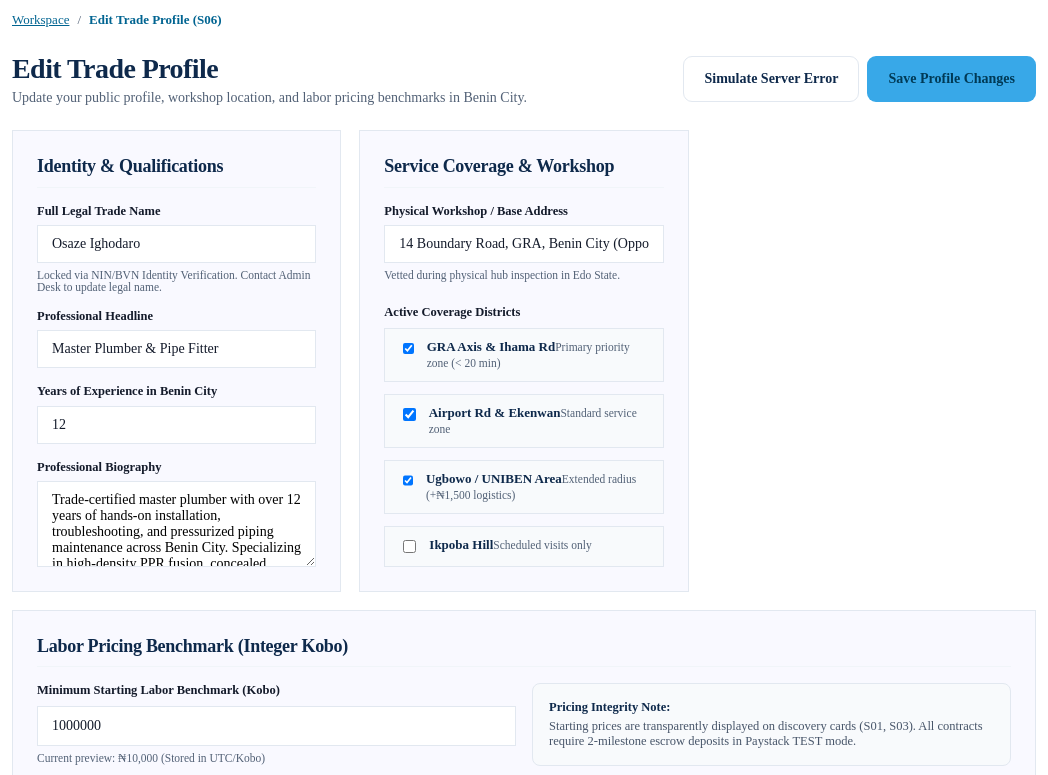
Test: Artisan Profiles & Verification (S04, S05, S06, S40, S41) › renders S06 Profile Editor and simulates profile update
Expected: the heading "Edit Trade Profile" is shown, x1=12 y1=53 x2=218 y2=84
Click the button "Save Profile Changes".
click(952, 79)  # box x1=868 y1=56 x2=1036 y2=102
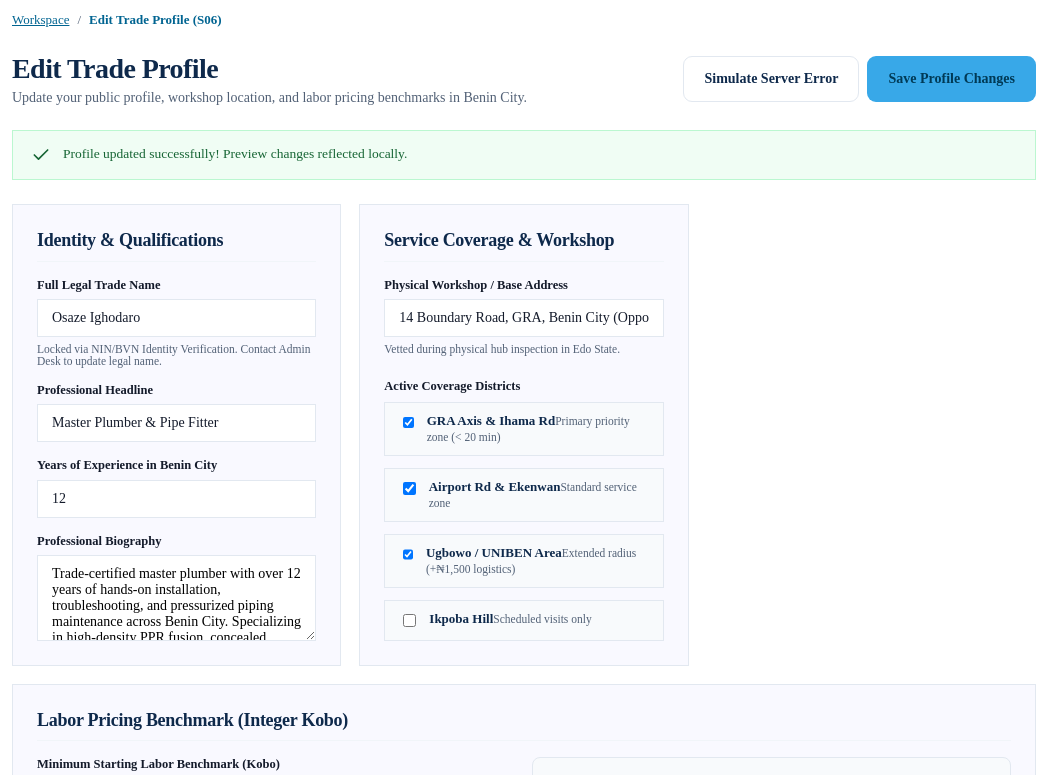
Result: the text "Profile updated successfully" is shown at x1=63 y1=146 x2=407 y2=161
